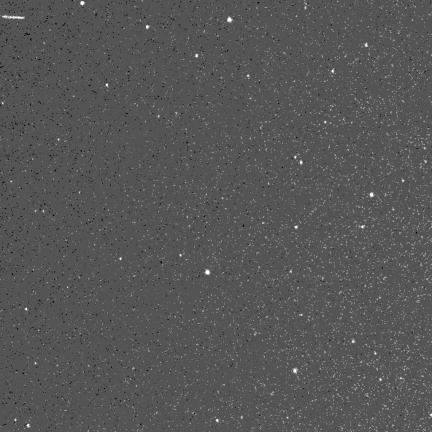blob: (227, 17, 232, 22), (206, 270, 210, 275), (365, 43, 369, 48), (146, 25, 150, 30), (293, 368, 297, 373), (216, 419, 220, 423), (370, 193, 374, 197), (119, 257, 123, 261), (351, 339, 355, 343), (81, 1, 85, 5), (361, 225, 365, 229), (332, 69, 335, 74), (106, 84, 109, 88), (402, 179, 405, 183), (380, 378, 383, 381), (324, 121, 327, 124), (25, 308, 28, 311), (295, 226, 298, 229), (195, 54, 198, 57), (180, 254, 182, 257), (295, 156, 297, 159), (375, 352, 377, 355), (300, 161, 302, 164)
